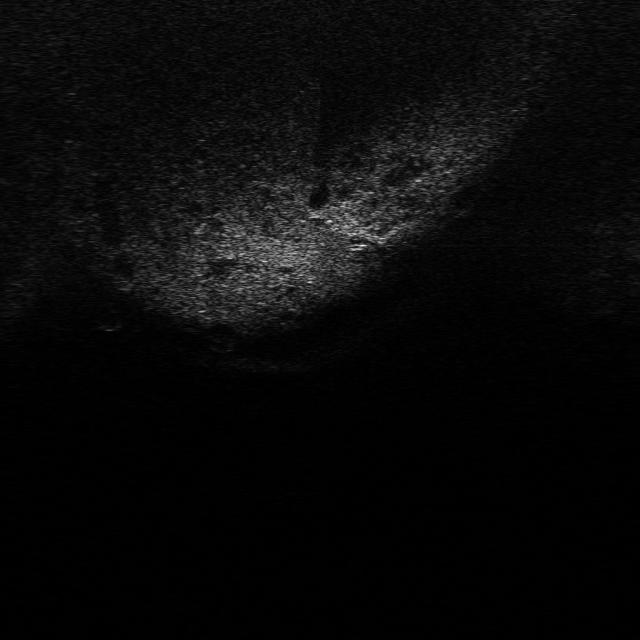ball: (89, 298, 137, 333)
